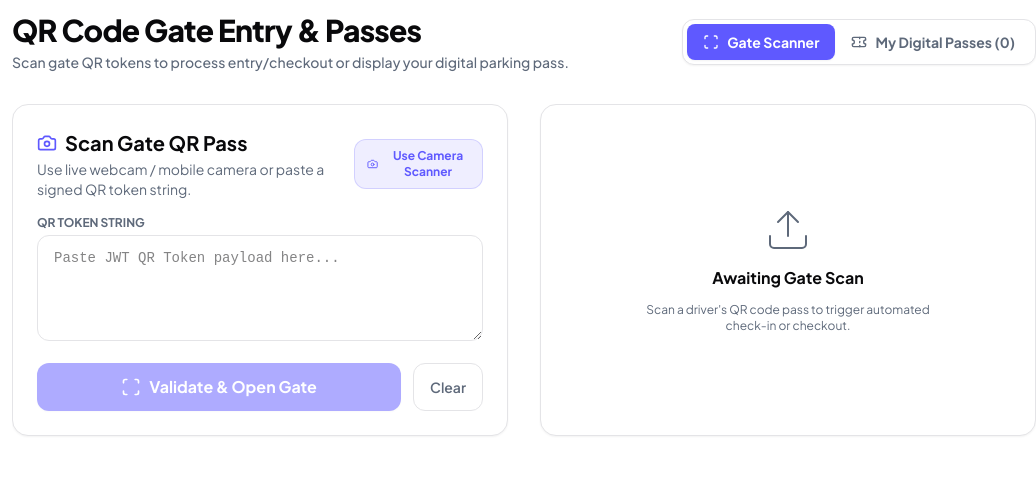
Scenario: QrScannerPage Component › submits QR token string and renders MSW mock scan result
The width and height of the screenshot is (1036, 489).
Type "eyJhbGciOiJIUzI1NiIsInR5cCI6IkpXVCJ9.valid-qr-token" into the text box with placeholder "Paste JWT QR Token payload here..." at (260, 288), box [37,235,483,341]
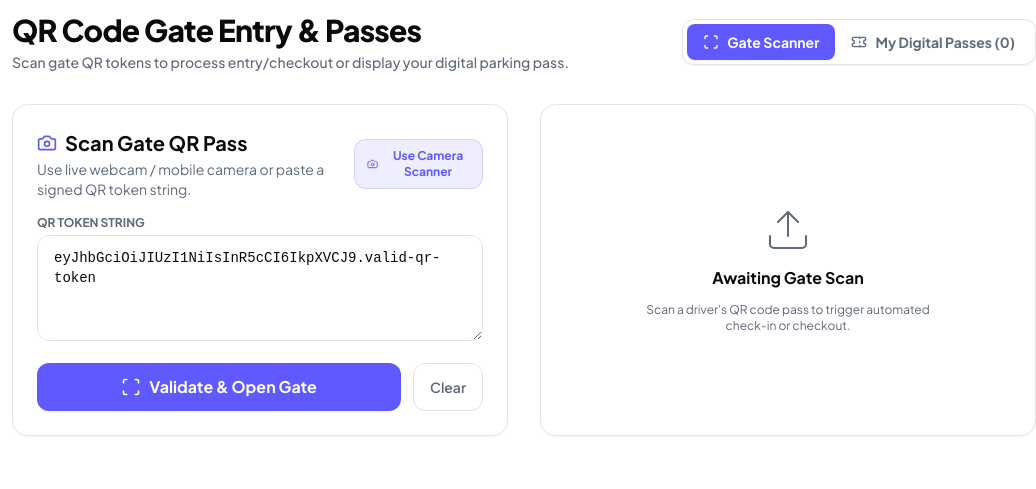
Click the button "Validate & Open Gate" at (219, 387), box [37,363,401,411]
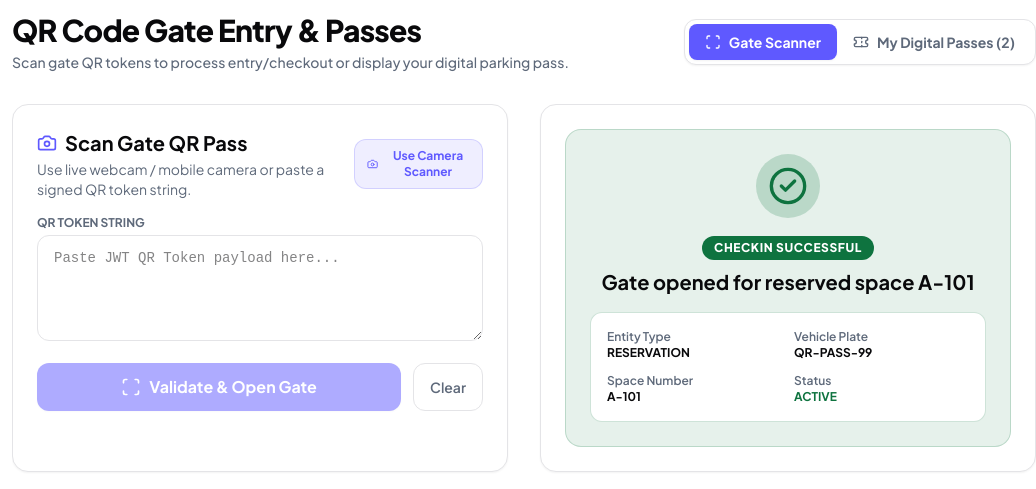
Check: the text "CHECKIN SUCCESSFUL" is shown, box [702,236,874,260]
Check: the heading "Gate opened for reserved space A-101" is shown, box [590,268,986,296]
